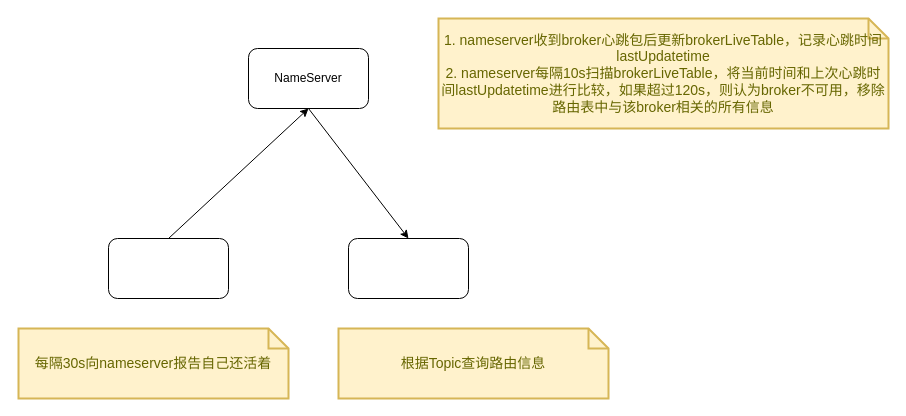
Some shapes in this 906 by 416 pixel diagram are drawn without their labels. Here are the shapes that lost their labels. From the top down, the box of each, then its label:
(108, 238, 228, 298): Broker
(348, 238, 468, 298): Producer
